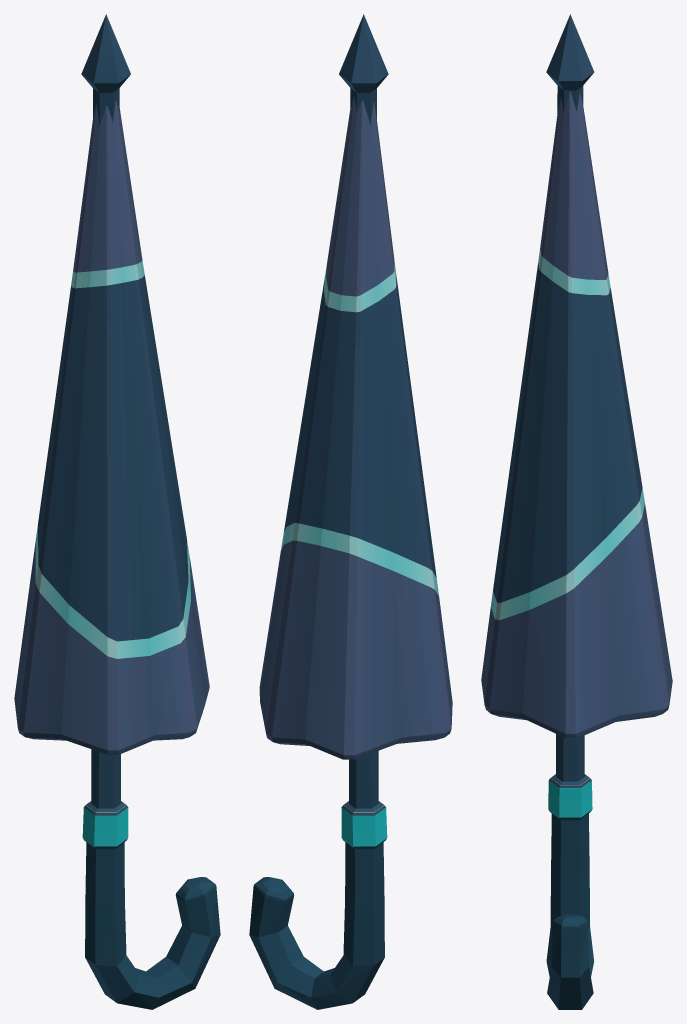
The model's file is CharSkyKid_Prop_AP03Umbrella_02.glb.
3 renders of one model, left to right at view 1: azimuth 30°, elevation 25°; view 2: azimuth 150°, elevation 25°; view 3: azimuth 270°, elevation 25°, orthographic. The views are drawn at different scales.
Visible parts, largest first — view 1: CharSkyKid_Prop_AP03Umbrella_02; view 2: CharSkyKid_Prop_AP03Umbrella_02; view 3: CharSkyKid_Prop_AP03Umbrella_02.
Boxes of the visible parts, left/top/right/bottom form: CharSkyKid_Prop_AP03Umbrella_02: left=14, top=14, right=220, bottom=1009; CharSkyKid_Prop_AP03Umbrella_02: left=249, top=14, right=452, bottom=1009; CharSkyKid_Prop_AP03Umbrella_02: left=481, top=14, right=672, bottom=1009.
Bounding box in the file's own units: 2.05 × 10.04 × 1.8.
Materials: 1 (1 with a texture image).
